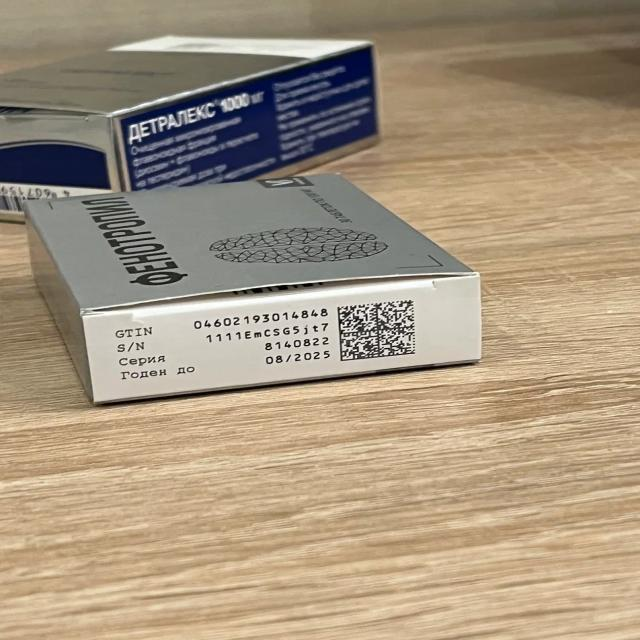datamatrix: (338, 299, 419, 364)
